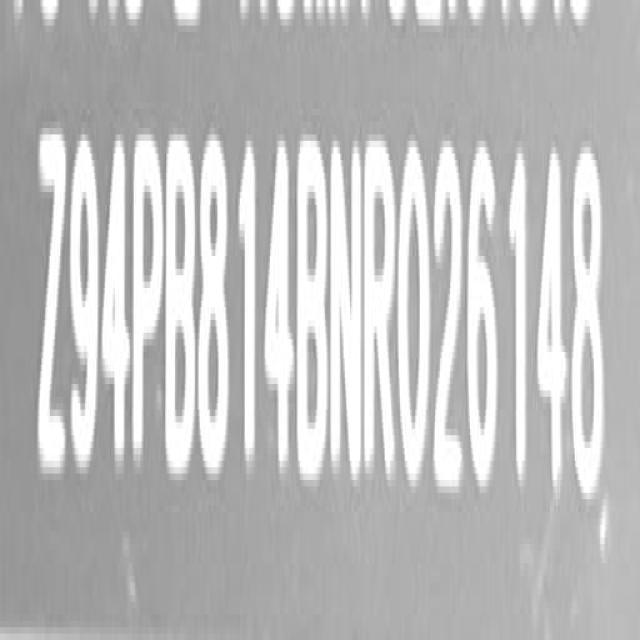0: (398, 134, 433, 499)
1: (234, 133, 258, 487), (510, 145, 531, 503)
2: (432, 134, 465, 505)
4: (539, 147, 571, 506), (264, 132, 296, 488), (102, 128, 132, 481)
6: (466, 136, 500, 500)
8: (572, 148, 606, 506), (201, 133, 234, 486)
9: (70, 133, 100, 489)
B: (298, 132, 331, 482), (166, 128, 198, 486)
N: (332, 132, 366, 488)
P: (133, 128, 164, 480)
R: (365, 134, 398, 488)
Z: (38, 129, 68, 493)
